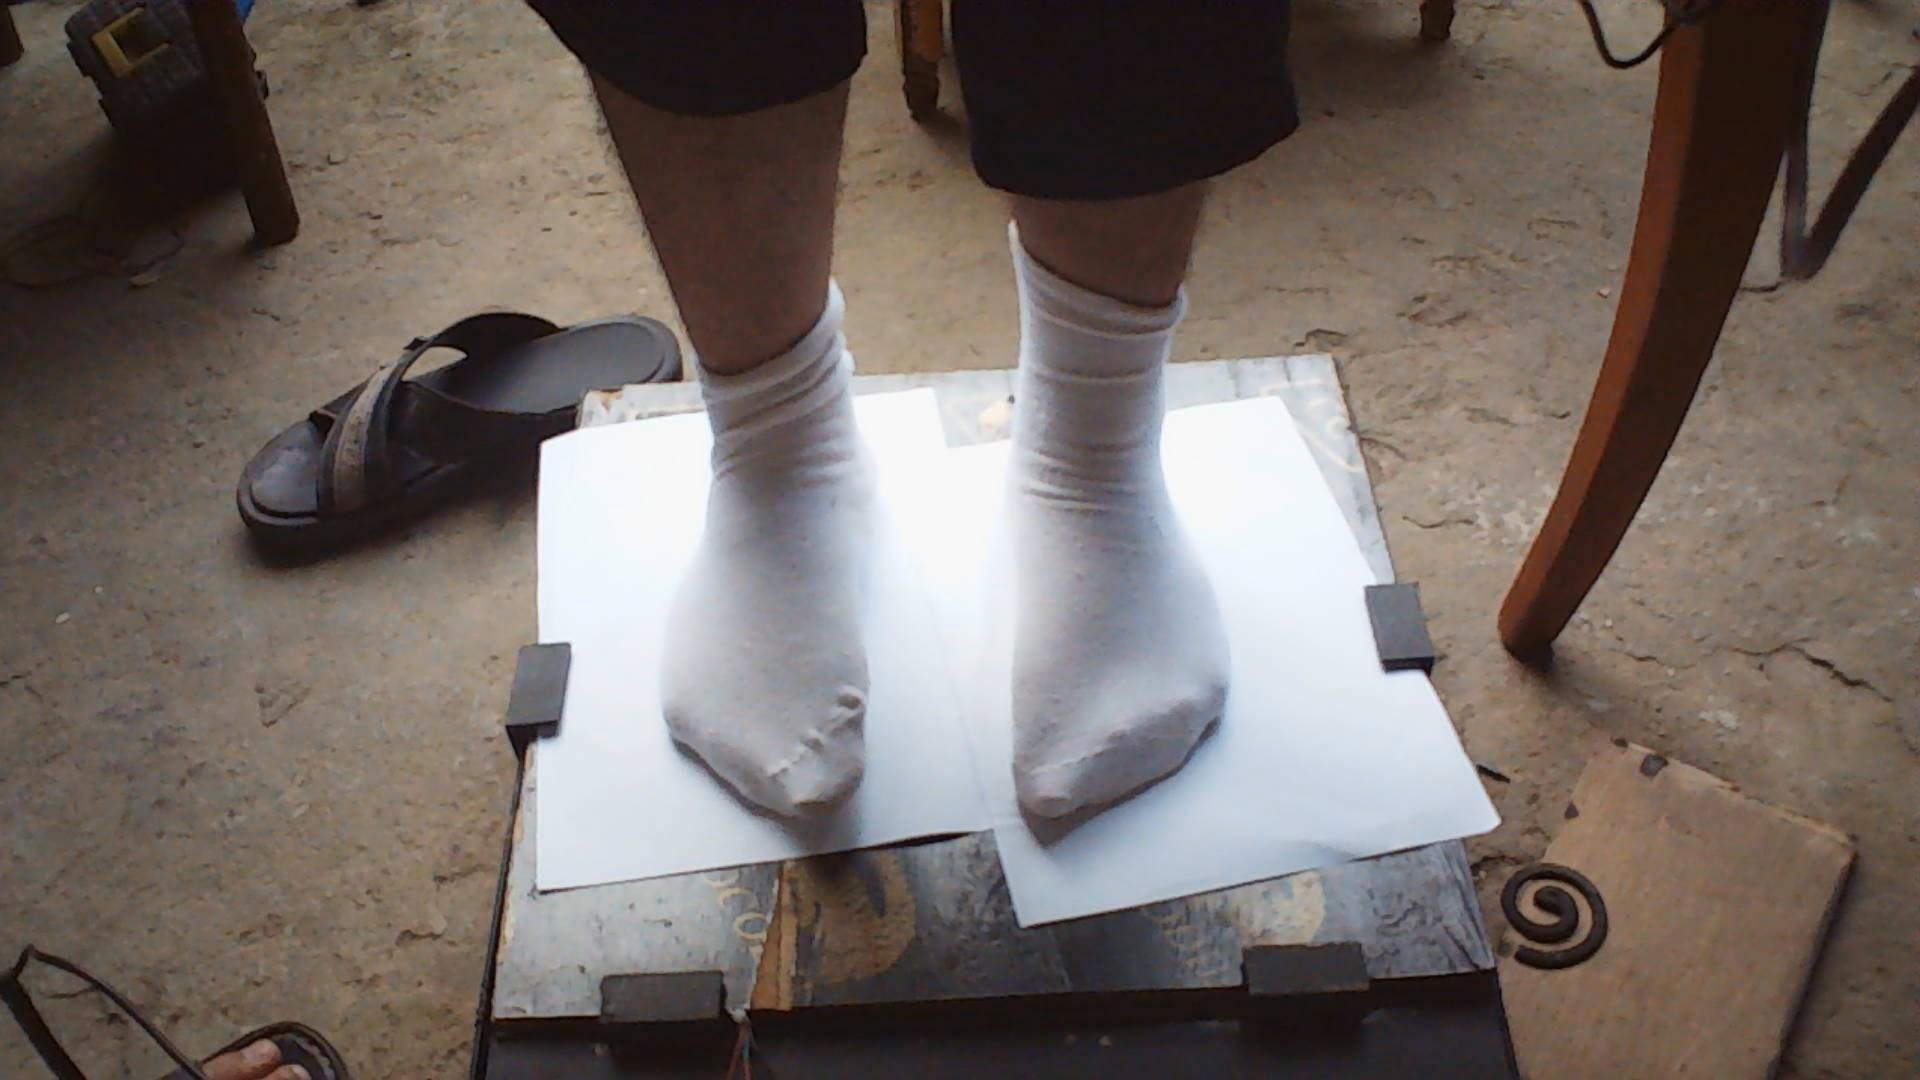white_socks: (527, 0, 872, 816), (952, 0, 1295, 818)
